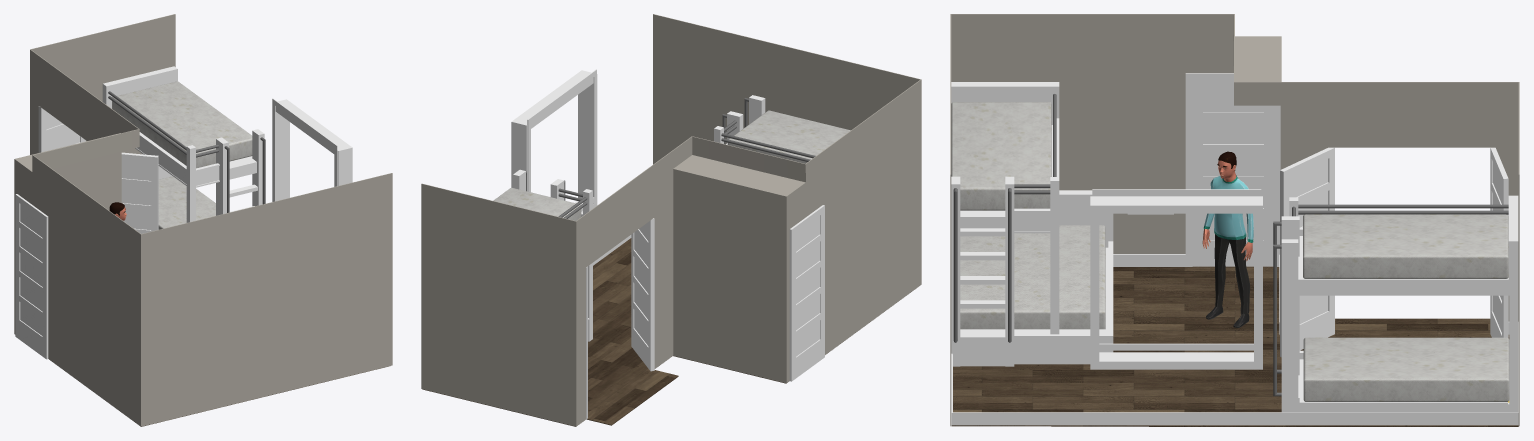
Rendered from bunks-5.glb.
3 renders of one model, left to right at view 1: azimuth 30°, elevation 25°; view 2: azimuth 150°, elevation 25°; view 3: azimuth 270°, elevation 25°, orthographic. The views are drawn at different scales.
Parts seen in each view (by area): view 1: innerWall.001, innerWall, innerWall.002, upper-mattress, Cube.004, Cube.006, Plane.001, upper-mattress.001, Cube.001, upper-molding-head-front, Plane, twin-bunk-leg-head-right (+3 smaller); view 2: innerWall, innerWall.002, innerWall.001, floor, Cube.004, Plane.001, twin-mattress, Cube.006, upper-mattress, Plane, twin-bunk-leg-head-right; view 3: innerWall, floor, upper-mattress.001, upper-mattress, queen-queen, twin-mattress, Cube.004, floor.001, Plane.001, Cube.006, Human 2, upper-rail-left (+27 smaller).
Boxes of the visible parts, x1,y1,x2,y2 form: innerWall.001: [141, 173, 392, 426]; innerWall: [14, 49, 141, 426]; innerWall.002: [31, 14, 175, 154]; upper-mattress: [112, 81, 252, 168]; Cube.004: [15, 194, 48, 359]; Cube.006: [121, 152, 158, 233]; Plane.001: [275, 99, 352, 200]; upper-mattress.001: [158, 176, 215, 229]; Cube.001: [38, 106, 85, 152]; upper-molding-head-front: [105, 68, 177, 108]; Plane: [272, 98, 337, 201]; twin-bunk-leg-head-right: [186, 145, 195, 222]; innerWall: [575, 79, 921, 426]; innerWall.002: [421, 183, 575, 426]; innerWall.001: [653, 14, 920, 164]; floor: [422, 238, 786, 426]; Cube.004: [789, 205, 824, 381]; Plane.001: [511, 70, 597, 212]; twin-mattress: [727, 110, 850, 163]; Cube.006: [631, 218, 654, 371]; upper-mattress: [493, 187, 581, 220]; Plane: [527, 69, 596, 211]; twin-bunk-leg-head-right: [583, 189, 592, 341]; innerWall: [950, 14, 1519, 321]; floor: [951, 266, 1518, 426]; upper-mattress.001: [1303, 337, 1509, 401]; upper-mattress: [1303, 214, 1508, 278]; queen-queen: [960, 225, 1105, 329]; twin-mattress: [951, 102, 1051, 210]; Cube.004: [1192, 80, 1273, 266]; floor.001: [951, 254, 1518, 425]; Plane.001: [1090, 196, 1262, 369]; Cube.006: [1280, 147, 1334, 357]; Human 2: [1202, 151, 1253, 327]; upper-rail-left: [1298, 281, 1509, 293].
Size of the model in its own units: 3.99 by 2.75 by 5.62.
Materials: 15 (6 with a texture image).
